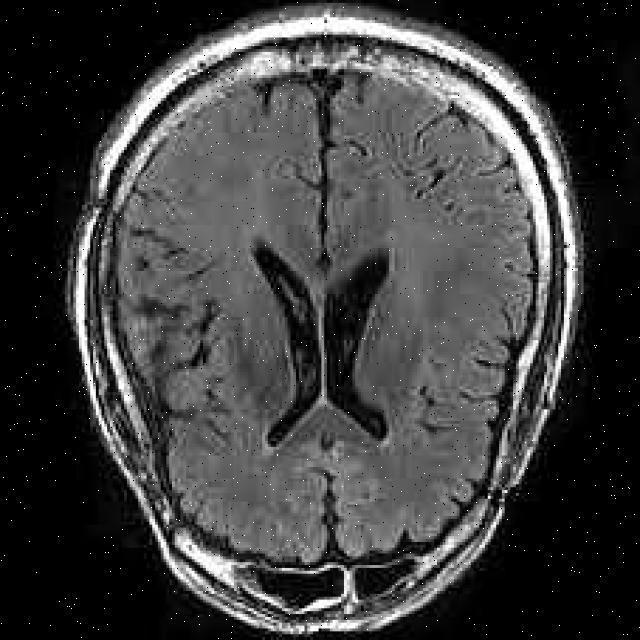No_Tumor: (68, 11, 581, 632)
